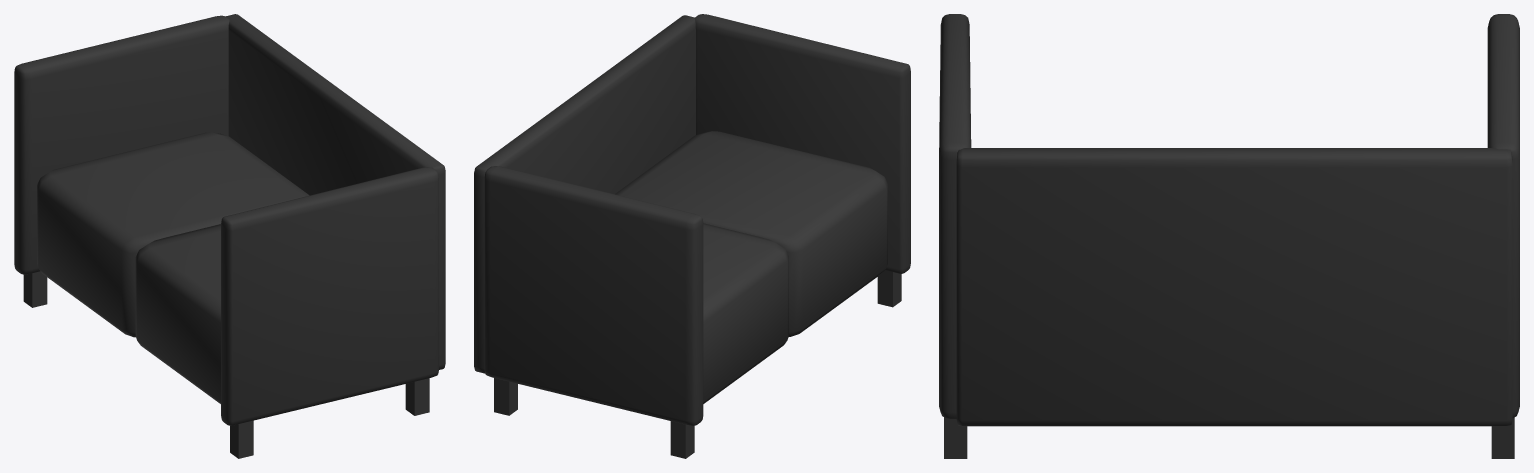
File: sofa1.fbx
The picture shows the model from 3 angles, left to right: view 1: azimuth 30°, elevation 25°; view 2: azimuth 150°, elevation 25°; view 3: azimuth 270°, elevation 25°; orthographic projection. The views are drawn at different scales.
Parts seen in each view (by area): view 1: sofa1; view 2: sofa1; view 3: sofa1.
Boxes of the visible parts, x1,y1,x2,y2 form: sofa1: (14,14,445,458); sofa1: (474,14,910,458); sofa1: (939,14,1519,458).
Size of the model in its own units: 1673 by 1706 by 2830.
